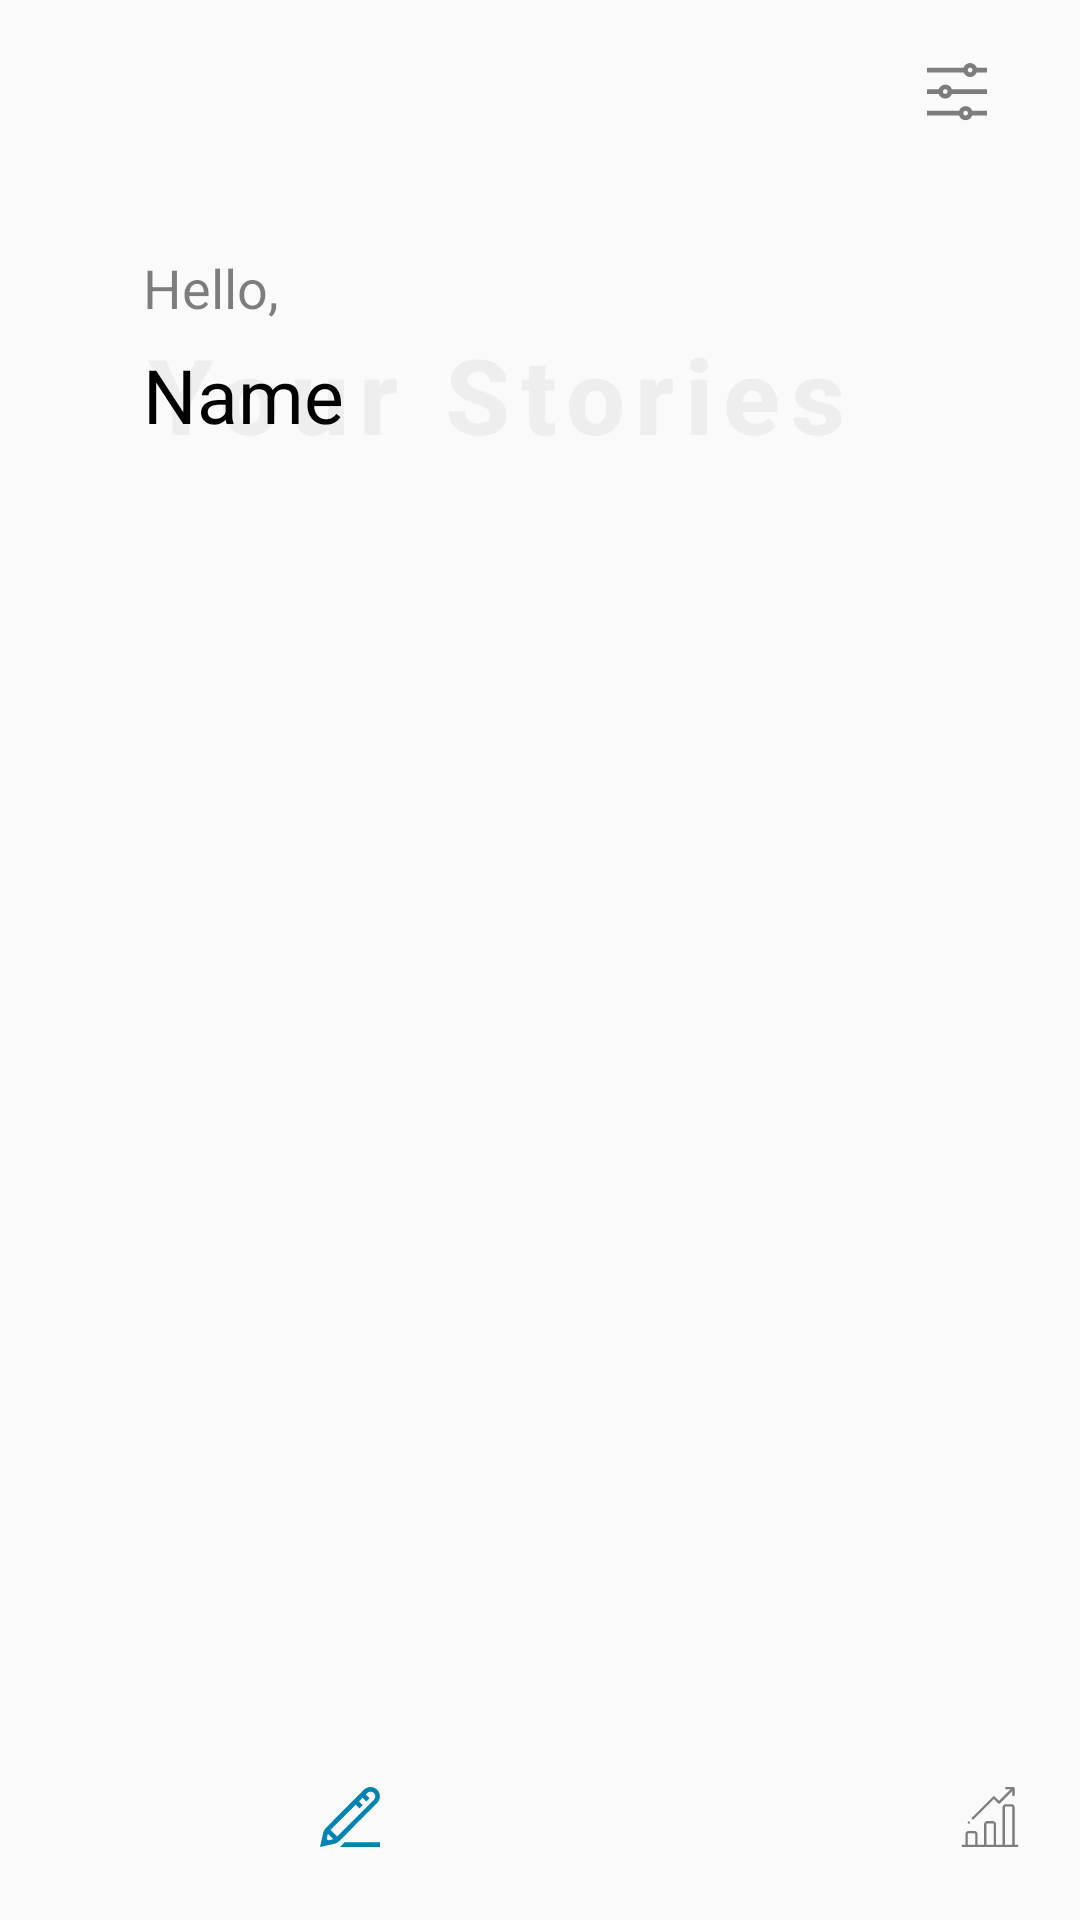

Screen size 1080*1920. Icon name, then its center in pixels as (x=x, y=y):
pen: (x=350, y=1817)
setting: (x=957, y=91)
